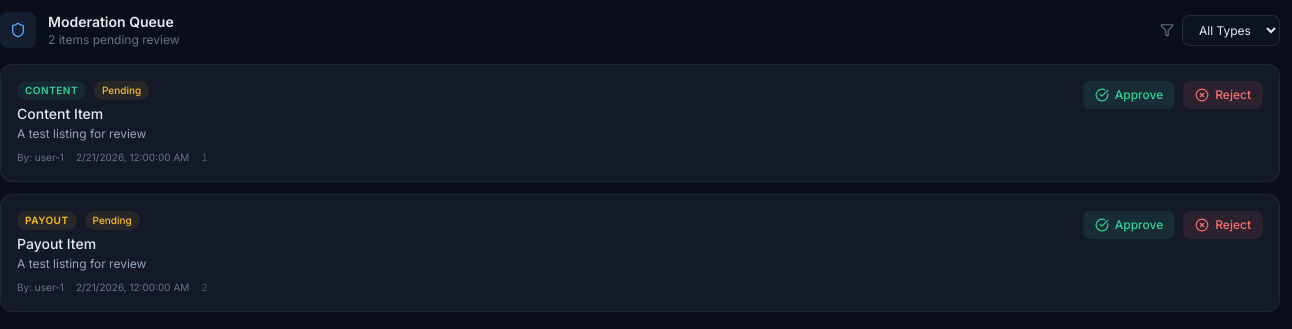
ModerationQueue › can filter by payout type
Select "Payouts" in the dropdown showing "All Types" at point(1231, 30), box [1182,14,1280,46]
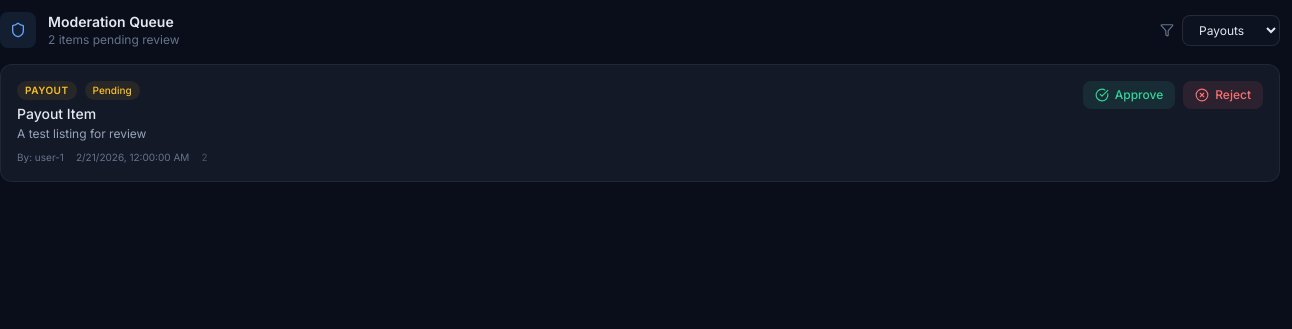
Expected: the heading "Payout Item" is shown, [17,105,96,122]
Expected: the heading "Content Item" is gone
